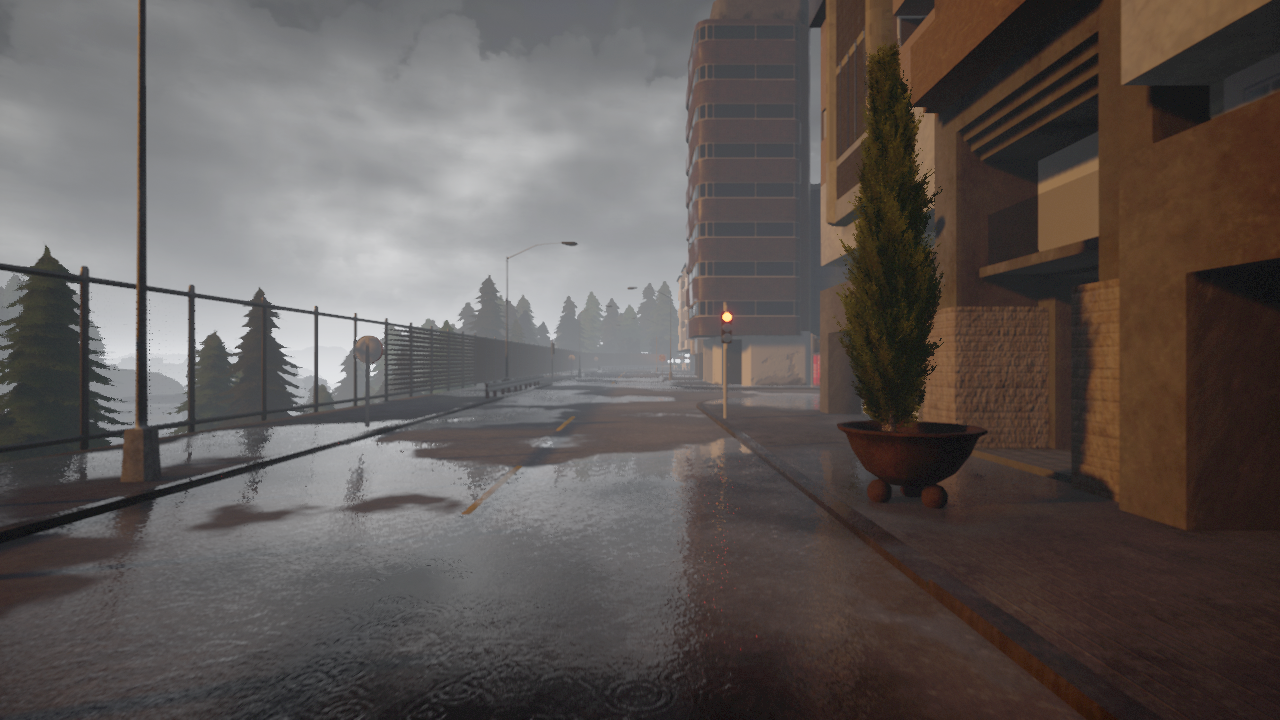red: (720, 310, 732, 343)
